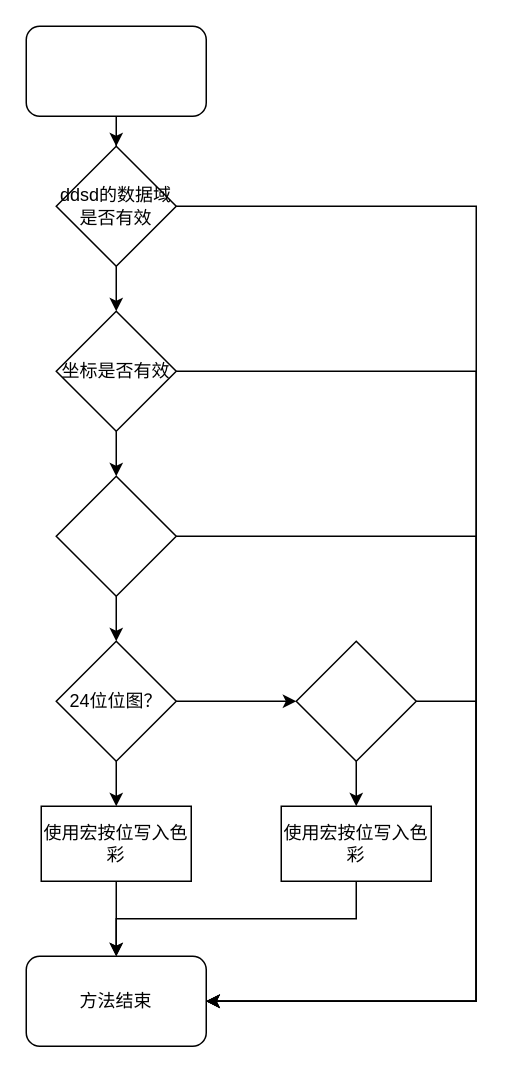
Image size: 515x1073. Some labels were removed from this diagram. The centre of each missing label's shape, as x and y in pixels:
32位位图？: point 355,700
方法开始: point 115,70
色彩值是否有效: point 115,535
